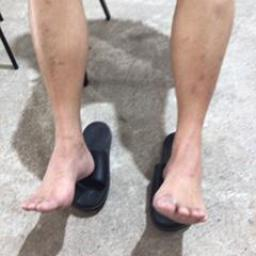Front View -Both Feet-: (14, 58, 226, 232)
